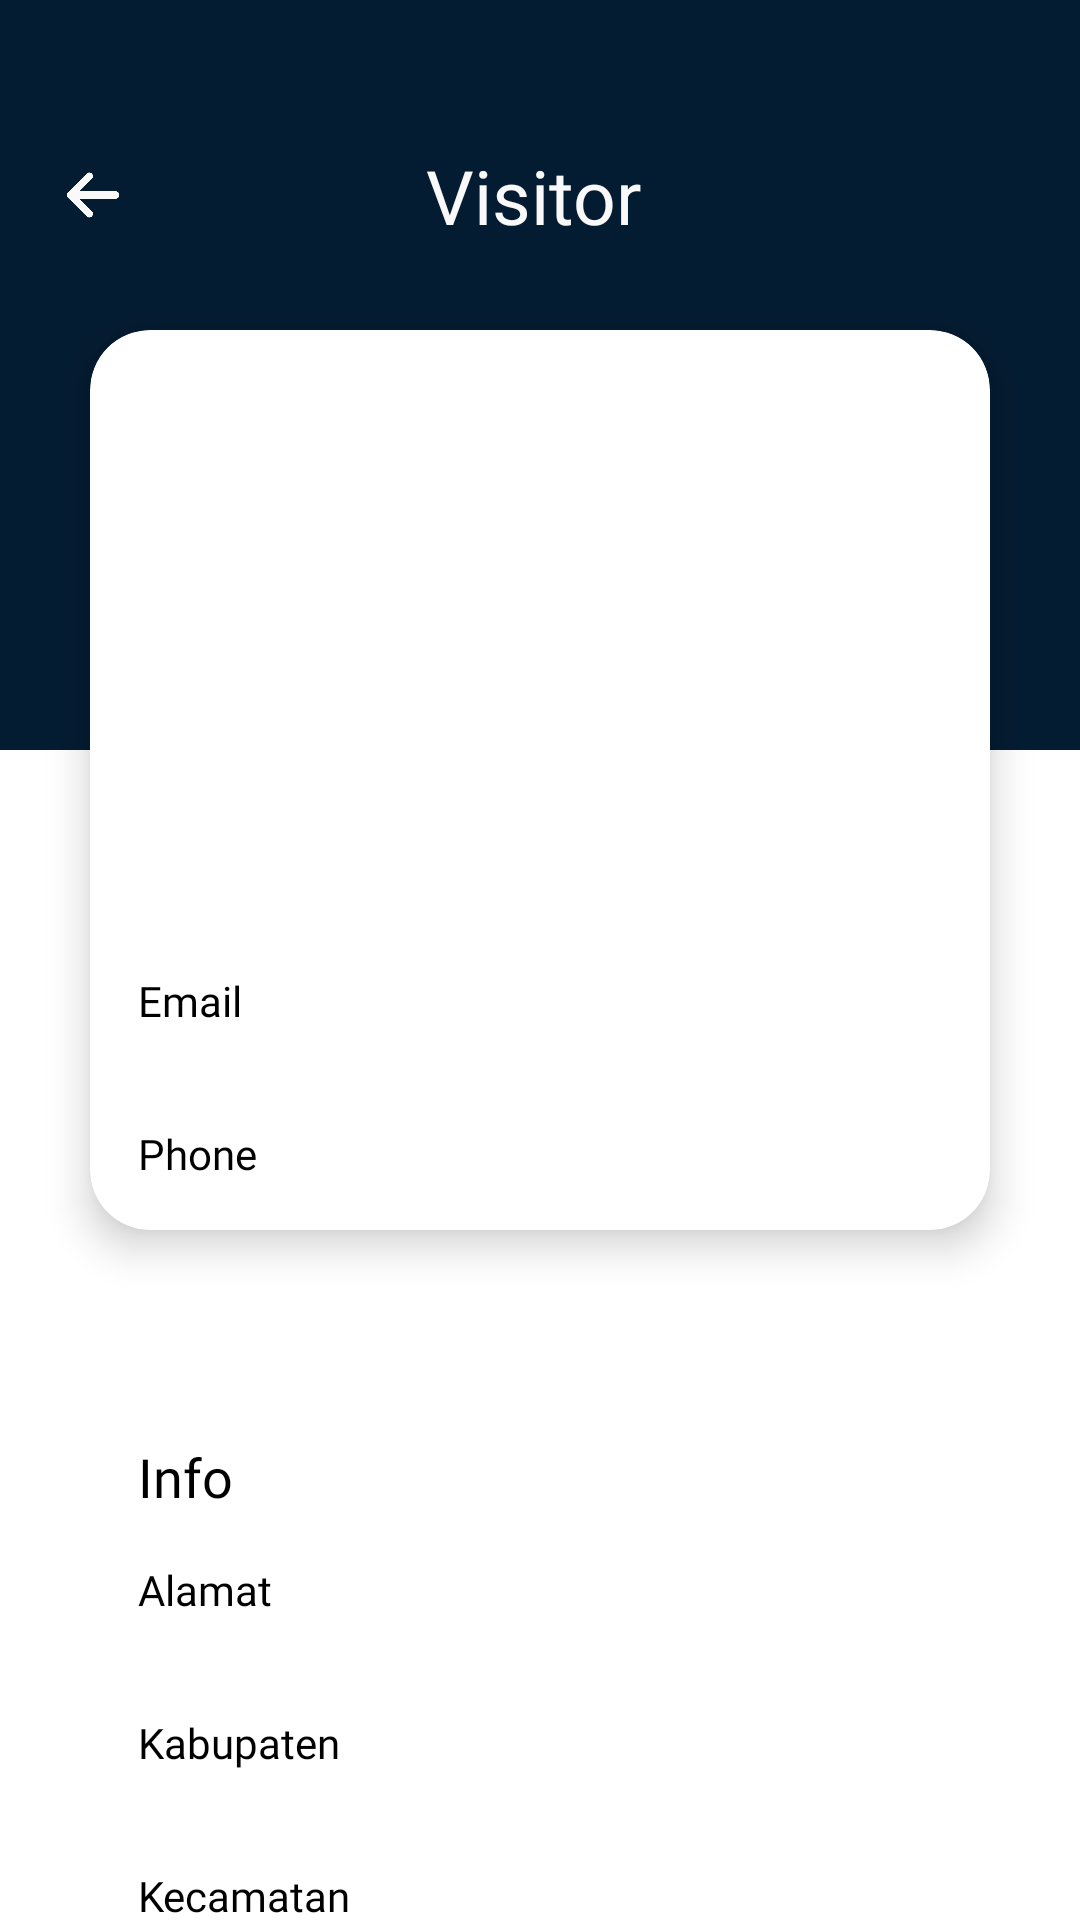

Where icons sit on this 1080x1920 app screen, as (x1, y1, x2, y2):
Image Back: (67, 172, 119, 218)
